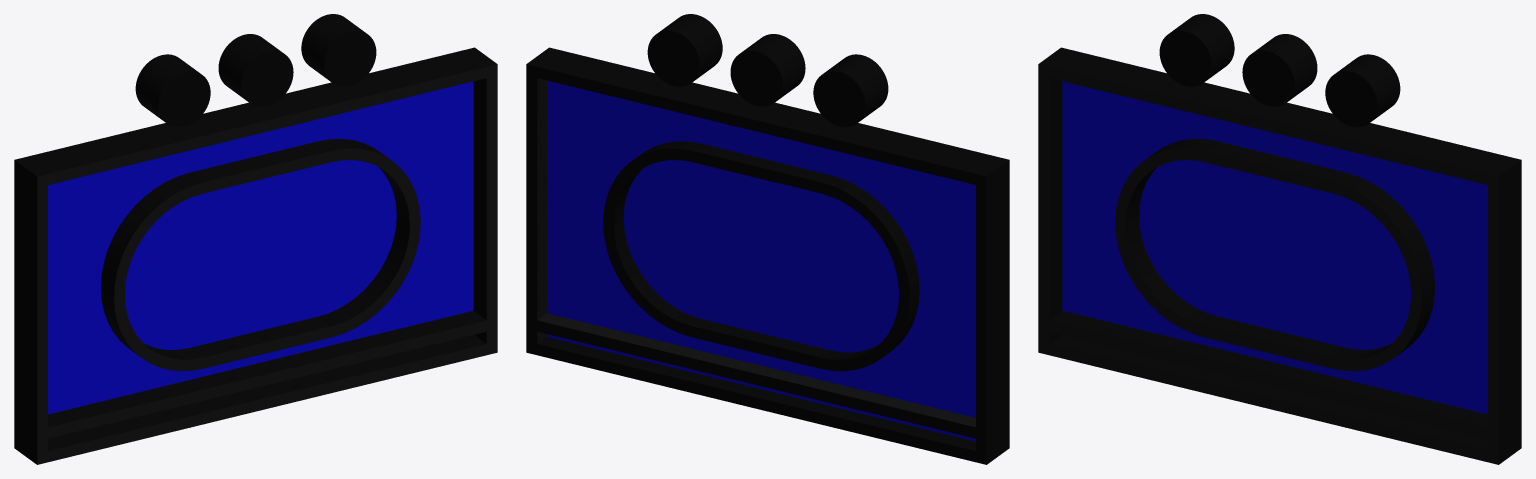
The model's file is ORBAT_-_WhiteEye.obj.
3 renders of one model, left to right at view 1: azimuth 30°, elevation 25°; view 2: azimuth 150°, elevation 25°; view 3: azimuth 330°, elevation 25°, orthographic.
Parts seen in each view (by area): view 1: SM_ORBAT_-_WhiteEye_path1763-2.117; view 2: SM_ORBAT_-_WhiteEye_path1763-2.117; view 3: SM_ORBAT_-_WhiteEye_path1763-2.117.
Boxes of the visible parts, box(x1,y1,x2,y2) form: SM_ORBAT_-_WhiteEye_path1763-2.117: box(14, 14, 497, 464); SM_ORBAT_-_WhiteEye_path1763-2.117: box(526, 14, 1009, 464); SM_ORBAT_-_WhiteEye_path1763-2.117: box(1038, 14, 1521, 464).
Bounding box in the file's own units: 0.4787 × 0.3552 × 0.0412.
